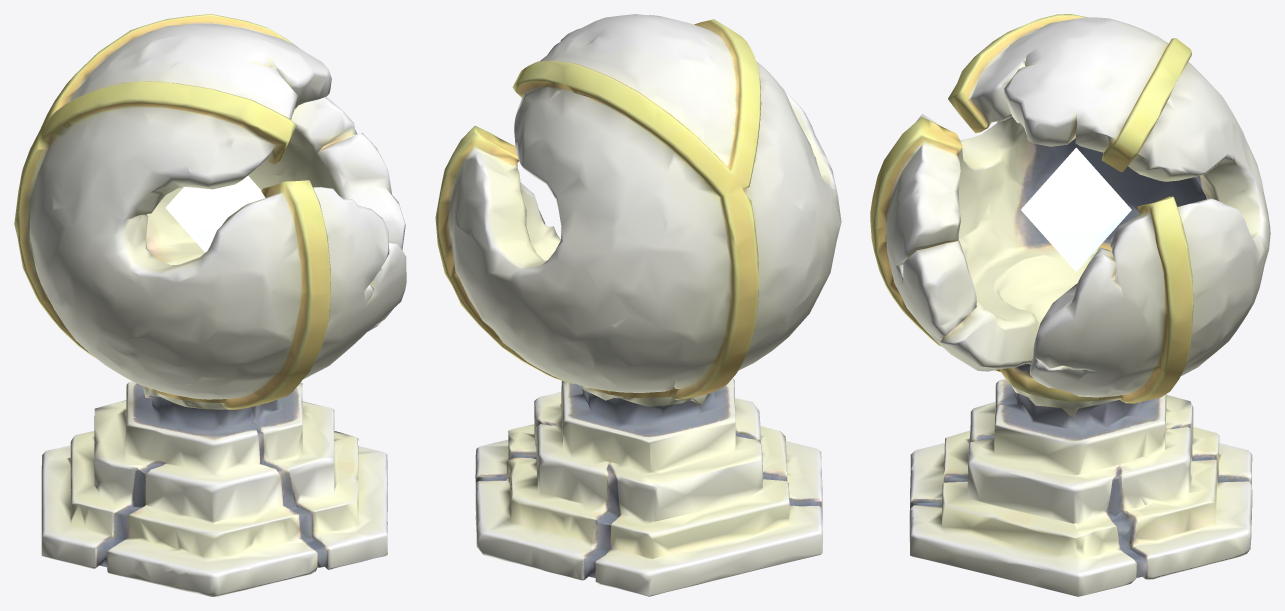
Rendered from source.glb.
The picture shows the model from 3 angles, left to right: view 1: azimuth 30°, elevation 25°; view 2: azimuth 150°, elevation 25°; view 3: azimuth 270°, elevation 25°; orthographic projection.
Visible parts, largest first — view 1: tripo_node_129eb49b-4e3e-47e7-b16d-d0c08ea2f7b0, deep_gem; view 2: tripo_node_129eb49b-4e3e-47e7-b16d-d0c08ea2f7b0; view 3: tripo_node_129eb49b-4e3e-47e7-b16d-d0c08ea2f7b0, deep_gem.
Part boxes in pixels (<box>): tripo_node_129eb49b-4e3e-47e7-b16d-d0c08ea2f7b0: <box>14,14,406,596</box>; deep_gem: <box>165,176,265,252</box>; tripo_node_129eb49b-4e3e-47e7-b16d-d0c08ea2f7b0: <box>435,14,841,596</box>; tripo_node_129eb49b-4e3e-47e7-b16d-d0c08ea2f7b0: <box>870,14,1270,596</box>; deep_gem: <box>1021,147,1131,271</box>.
Size of the model in its own units: 1.06 by 1.4 by 1.06.
Materials: 2 (1 with a texture image).
